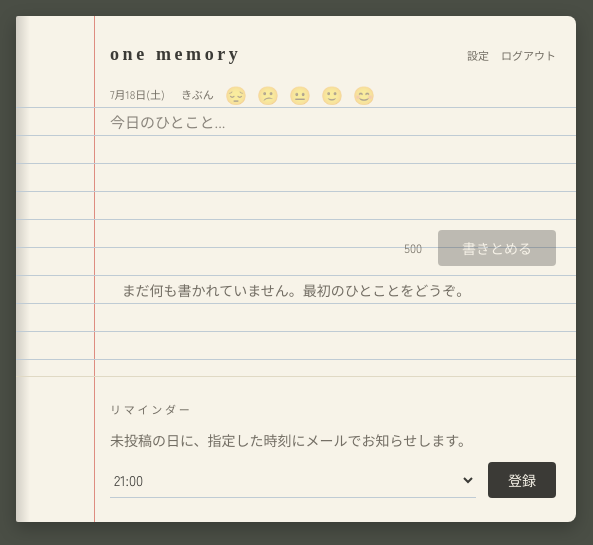
Scenario: App › 今日の投稿がない場合 › 投稿を送信すると今日のカードが表示される
Type "今日もいい天気だった" into the text box with placeholder "今日のひとこと..." at (333, 164), box 110,108 -> 556,220
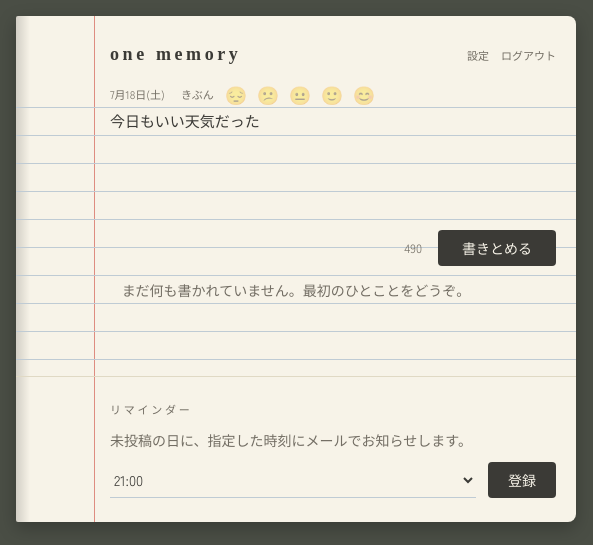
Click the button "書きとめる" at (497, 248), box 438,230 -> 556,266
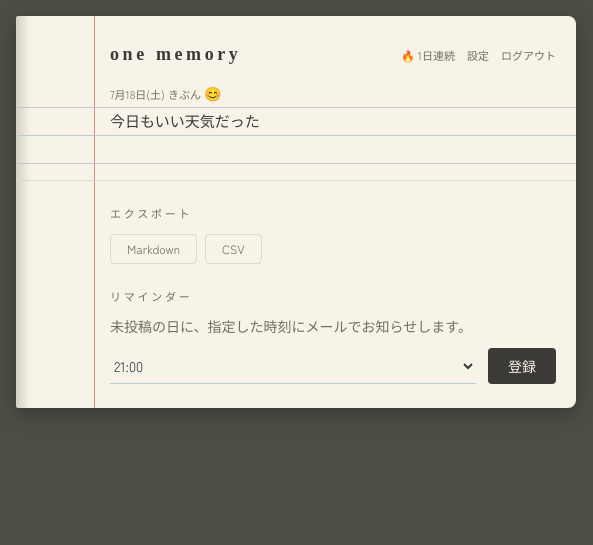
Expected: the text "今日もいい天気だった" is shown, 110,113 -> 260,131
Expected: the text box with placeholder "今日のひとこと..." is gone
